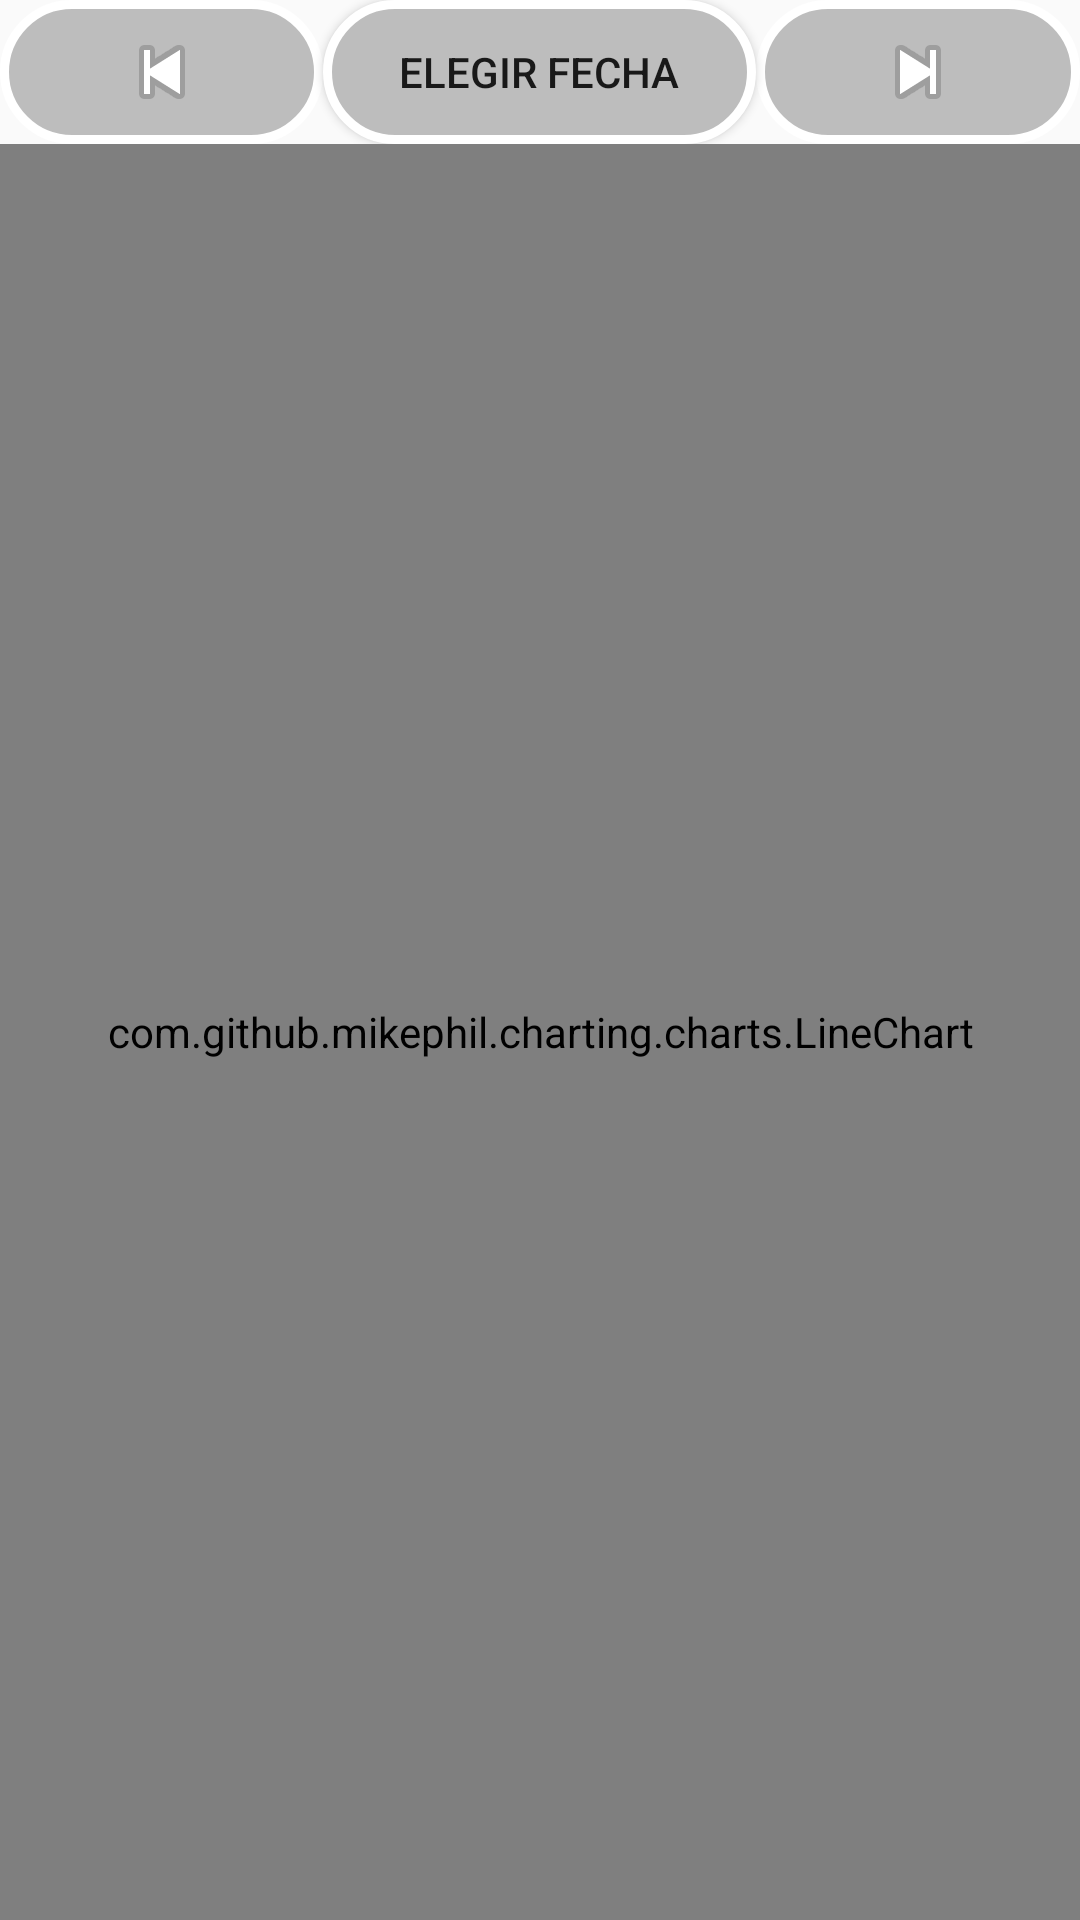

Point at icon controls on the screen. Image size 1080px×1920px, points as (x,y).
next: (918,72)
previous: (161,72)
